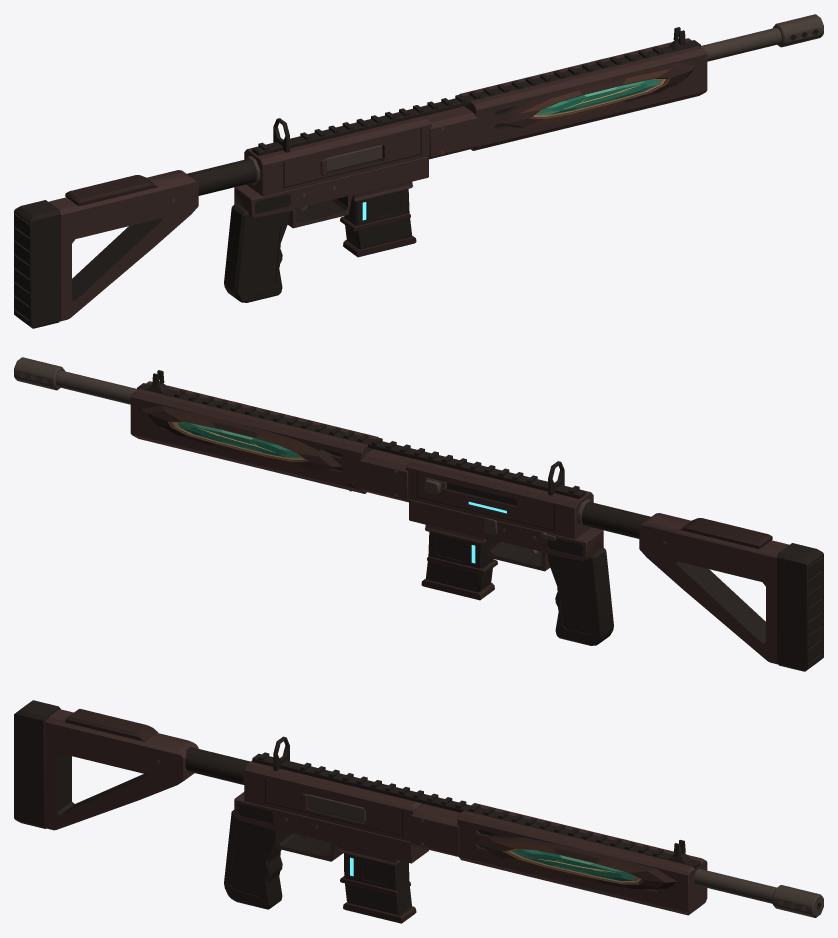
The model's file is Guardian_Rootglass_v01.fbx.
3 renders of one model, top to bottom at view 1: azimuth 30°, elevation 25°; view 2: azimuth 150°, elevation 25°; view 3: azimuth 330°, elevation 25°, orthographic.
Parts seen in each view (by area): view 1: Guardian_Receiver, Guardian_Stock, Guardian_Handguard, Guardian_Grip, Guardian_Mag, Rootglass_Right_CarvedShell, Guardian_Barrel, Rootglass_Right_FacetedMineral, Guardian_Bolt, Guardian_Sights; view 2: Guardian_Receiver, Guardian_Stock, Guardian_Handguard, Guardian_Grip, Guardian_Mag, Rootglass_Left_CarvedShell, Guardian_Barrel, Rootglass_Left_FacetedMineral, Guardian_Sights; view 3: Guardian_Receiver, Guardian_Stock, Guardian_Handguard, Guardian_Grip, Guardian_Mag, Rootglass_Right_CarvedShell, Guardian_Barrel, Rootglass_Right_FacetedMineral, Guardian_Bolt, Guardian_Sights.
Part boxes in pixels (x1=…): Guardian_Receiver: x1=234, y1=40, x2=700, y2=228; Guardian_Stock: x1=14, y1=156, x2=260, y2=328; Guardian_Handguard: x1=459, y1=38, x2=707, y2=150; Guardian_Grip: x1=224, y1=203, x2=290, y2=302; Guardian_Mag: x1=340, y1=189, x2=416, y2=257; Rootglass_Right_CarvedShell: x1=495, y1=62, x2=696, y2=127; Guardian_Barrel: x1=701, y1=14, x2=823, y2=61; Rootglass_Right_FacetedMineral: x1=536, y1=79, x2=660, y2=114; Guardian_Bolt: x1=326, y1=145, x2=382, y2=171; Guardian_Sights: x1=273, y1=27, x2=690, y2=152; Guardian_Receiver: x1=137, y1=383, x2=603, y2=571; Guardian_Stock: x1=577, y1=499, x2=823, y2=671; Guardian_Handguard: x1=130, y1=381, x2=378, y2=493; Guardian_Grip: x1=547, y1=546, x2=613, y2=645; Guardian_Mag: x1=421, y1=532, x2=497, y2=600; Rootglass_Left_CarvedShell: x1=141, y1=405, x2=342, y2=470; Guardian_Barrel: x1=14, y1=357, x2=136, y2=404; Rootglass_Left_FacetedMineral: x1=177, y1=422, x2=301, y2=457; Guardian_Sights: x1=147, y1=370, x2=564, y2=495; Guardian_Receiver: x1=234, y1=752, x2=700, y2=869; Guardian_Stock: x1=14, y1=700, x2=250, y2=830; Guardian_Handguard: x1=457, y1=803, x2=707, y2=915; Guardian_Grip: x1=224, y1=810, x2=282, y2=909; Guardian_Mag: x1=340, y1=853, x2=416, y2=923; Rootglass_Right_CarvedShell: x1=476, y1=835, x2=676, y2=888; Guardian_Barrel: x1=694, y1=868, x2=823, y2=917; Rootglass_Right_FacetedMineral: x1=512, y1=849, x2=636, y2=880; Guardian_Bolt: x1=308, y1=794, x2=365, y2=821; Guardian_Sights: x1=273, y1=736, x2=690, y2=863.
Bounding box in the file's own units: 424 × 85.91 × 26.
